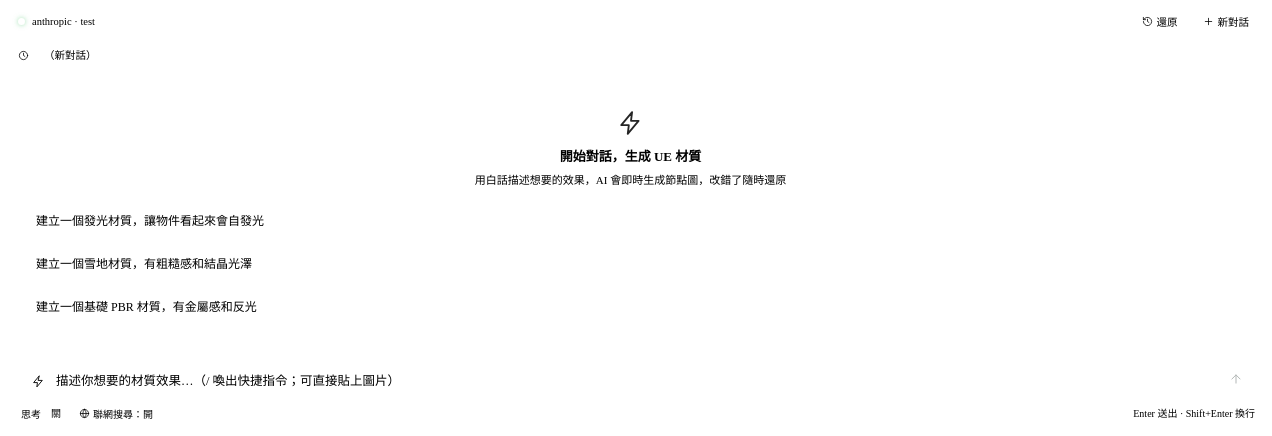
AgentChat thinking › renders thinking events as a collapsed card that expands on click
Type "做材質" into the text box with placeholder "描述你想要的材質效果…（/ 喚出快捷指令；可直接貼上圖片）" at (635, 382), box [56, 372, 1214, 391]
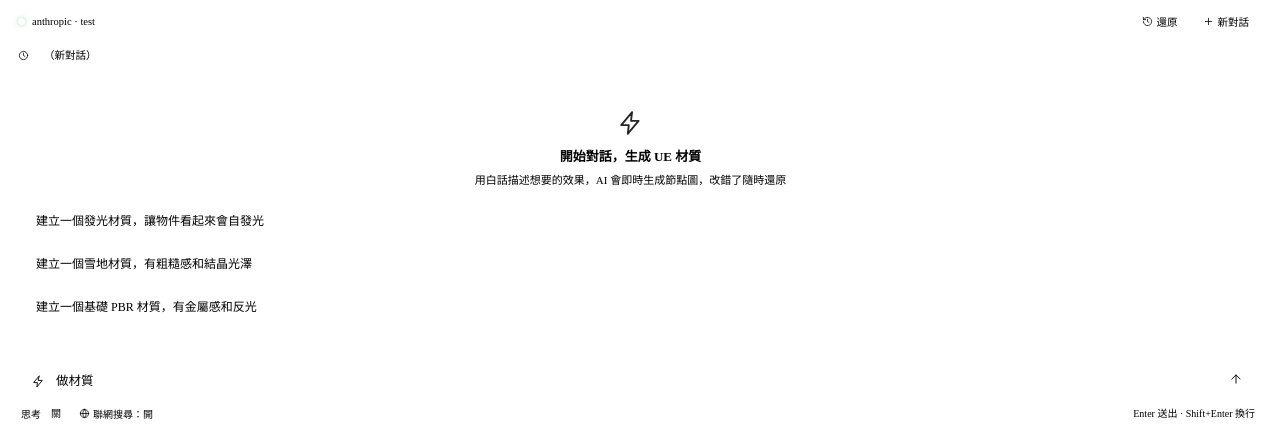
Press Enter in the text box, box [56, 372, 1214, 391]
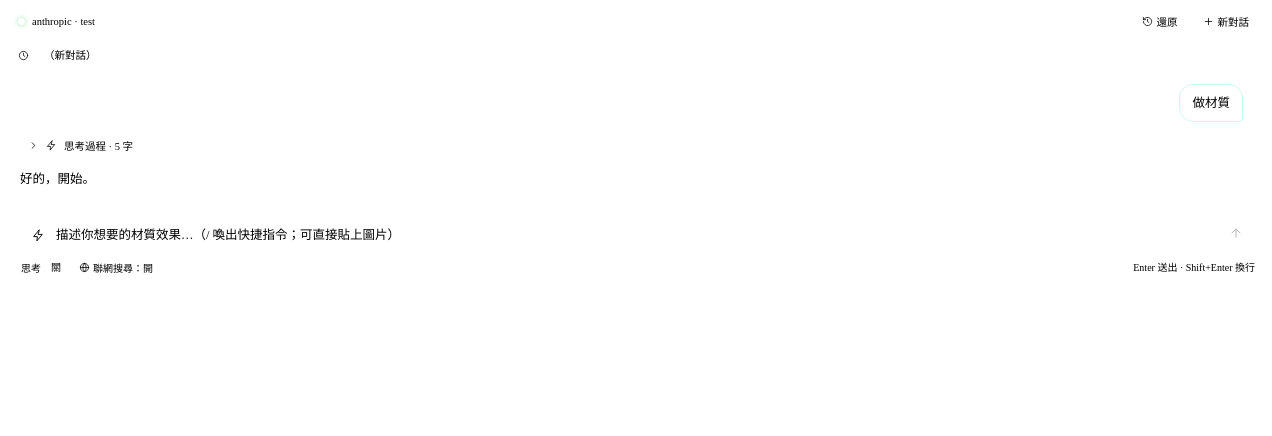
Expected: the element with class "agent-thinking" is shown
Expected: the text "好的，開始。" is shown, [20, 172, 95, 186]
Expected: the text "思考過程" is shown, [64, 141, 133, 152]
Click the button with class "agent-thinking-head" at (99, 146), box [18, 132, 1243, 159]
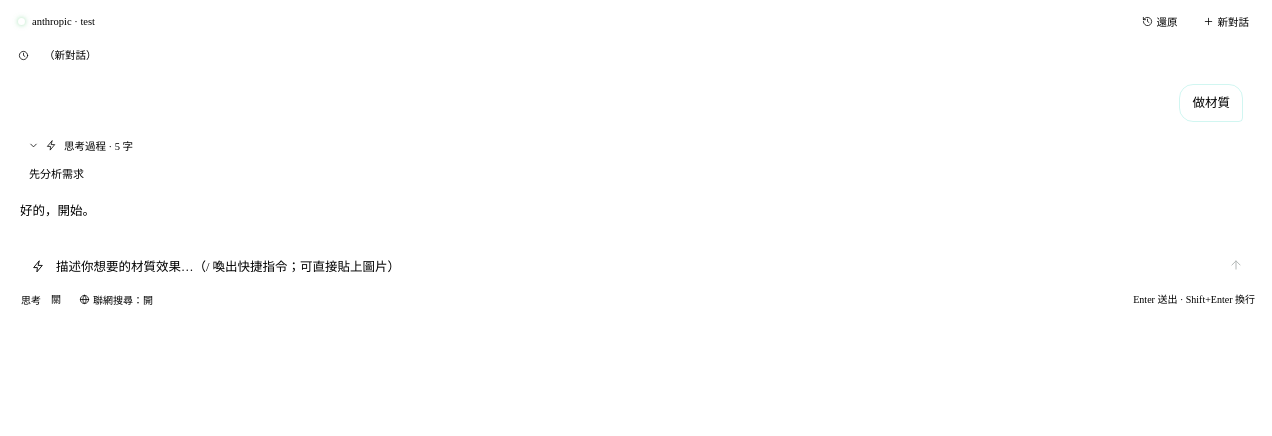
Expected: the text "先分析需求" is shown, [29, 168, 84, 180]
